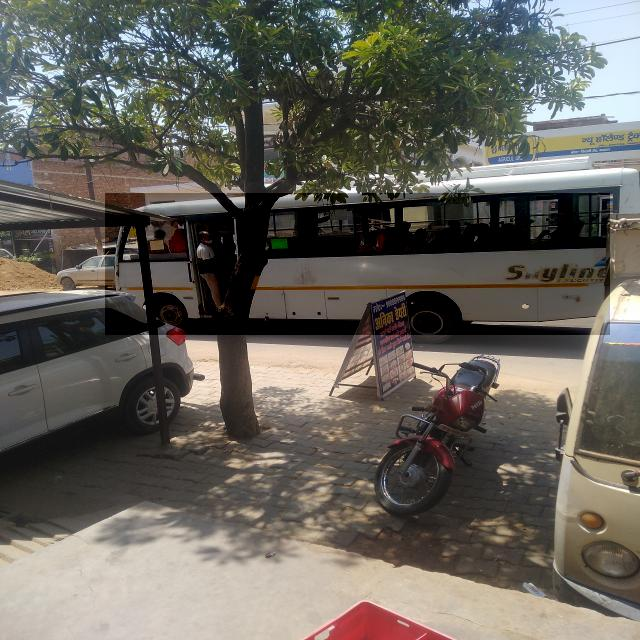Bus: (105, 193, 610, 335)
